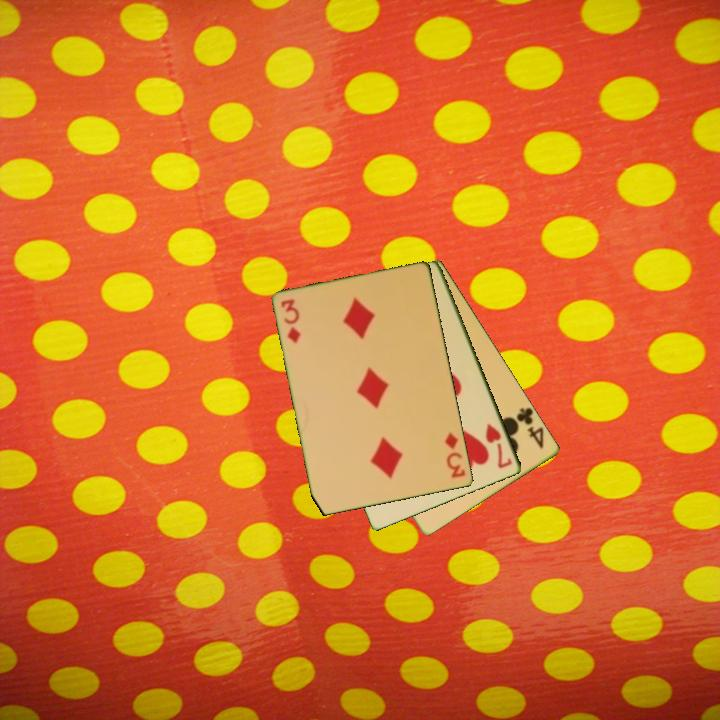3d: (442, 429, 468, 481), (278, 296, 304, 346)
4c: (513, 404, 547, 452)
7h: (482, 420, 515, 472)
